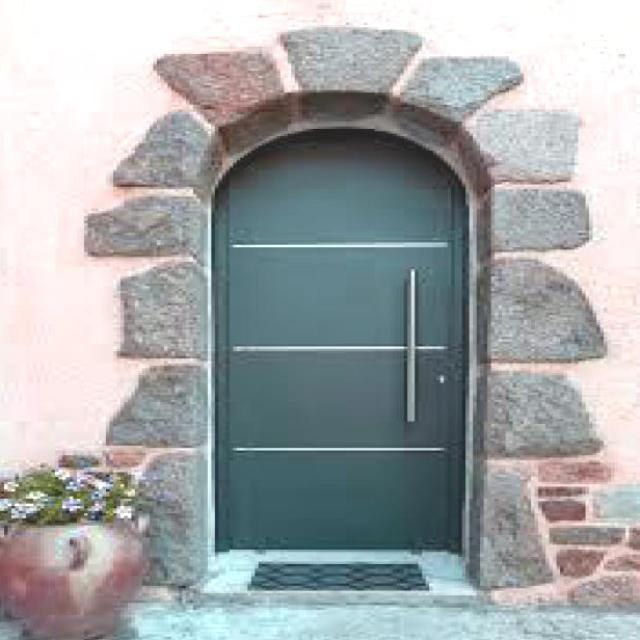door: (214, 128, 468, 553)
